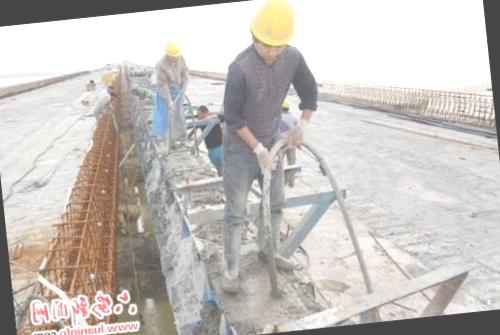no_helmet: (194, 100, 212, 122)
